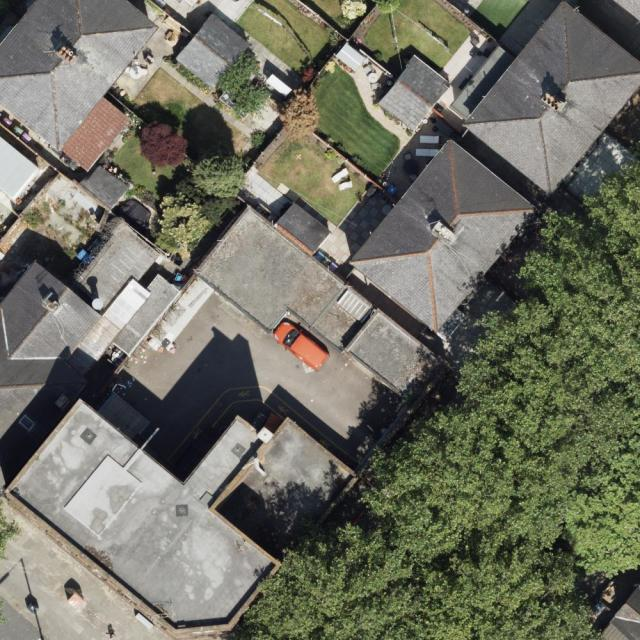roof: (0, 223, 363, 631), (199, 200, 451, 404), (346, 139, 535, 332), (464, 1, 640, 196), (0, 0, 157, 173), (377, 52, 455, 133), (175, 11, 254, 90)
skylight: (20, 409, 39, 433)
